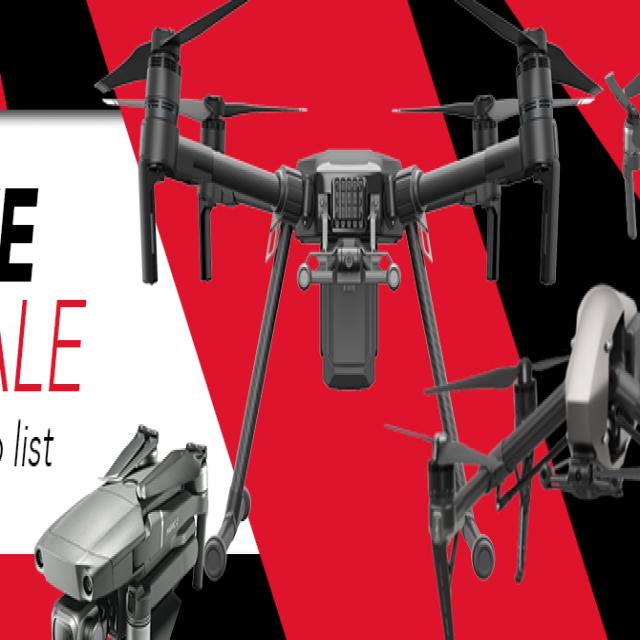drone: (80, 0, 595, 413), (403, 290, 640, 640)
